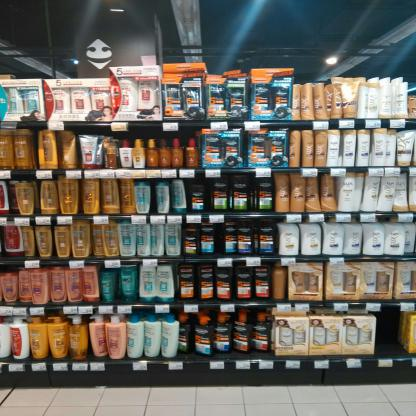Void: (375, 311, 400, 358)
